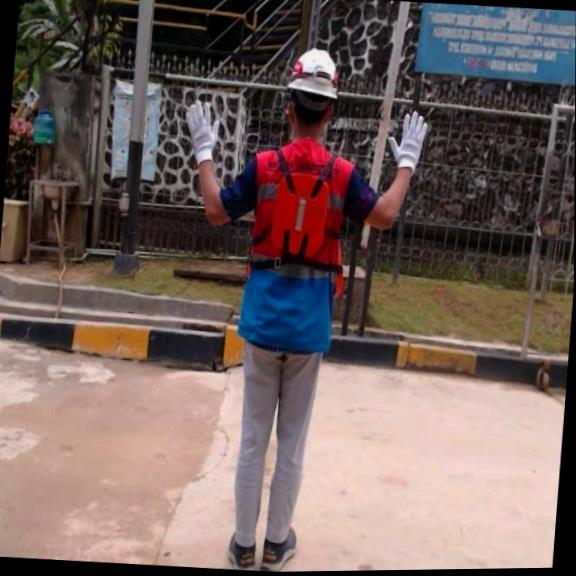safety_vest: (265, 168, 335, 268)
